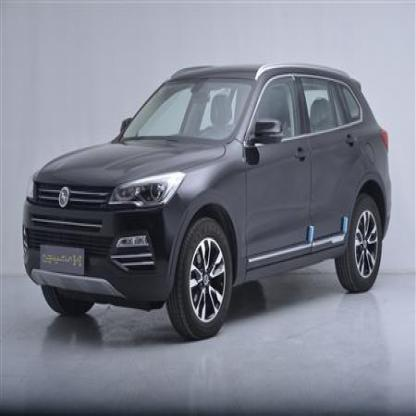Car: (20, 63, 392, 336)
